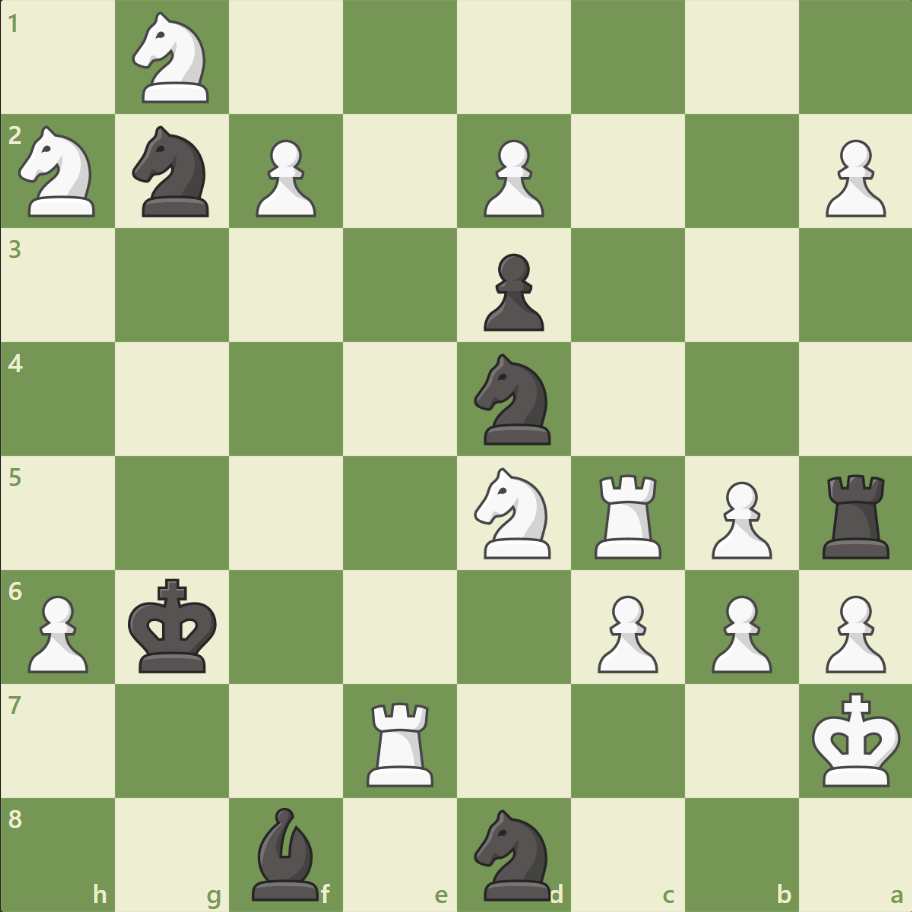K: (806, 685, 906, 793)
N: (124, 7, 222, 110), (465, 461, 562, 564), (11, 121, 108, 223)
P: (701, 586, 776, 677), (20, 586, 95, 677), (701, 473, 776, 564), (474, 132, 549, 223), (247, 132, 322, 223), (815, 586, 889, 677), (588, 586, 662, 677), (815, 132, 889, 223)
R: (587, 466, 670, 563), (360, 693, 442, 790)
b: (244, 801, 328, 904)
k: (124, 571, 224, 679)
n: (124, 121, 222, 223), (465, 802, 562, 904), (465, 348, 562, 450)
p: (474, 246, 549, 337)
r: (814, 466, 897, 563)
